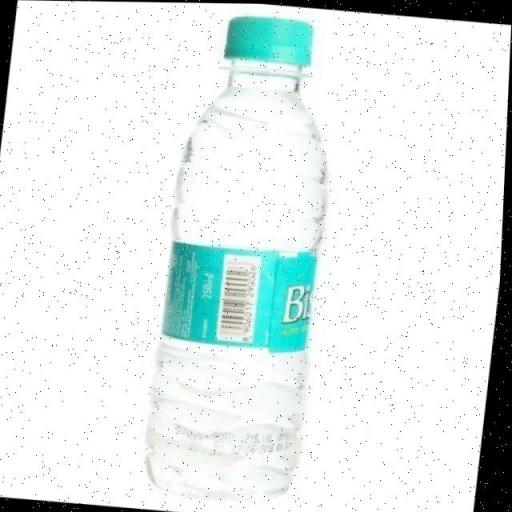plastic: (138, 6, 357, 502)
